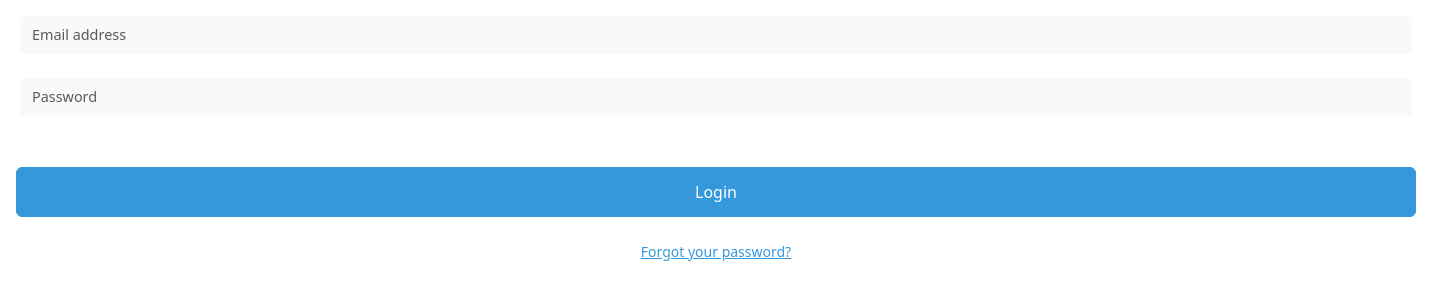
it: UserLogin Component › Form Validation › shows error for invalid email format
Type "invalid-email" into the field with placeholder "Email address" at (716, 35), box [20,16,1412,54]
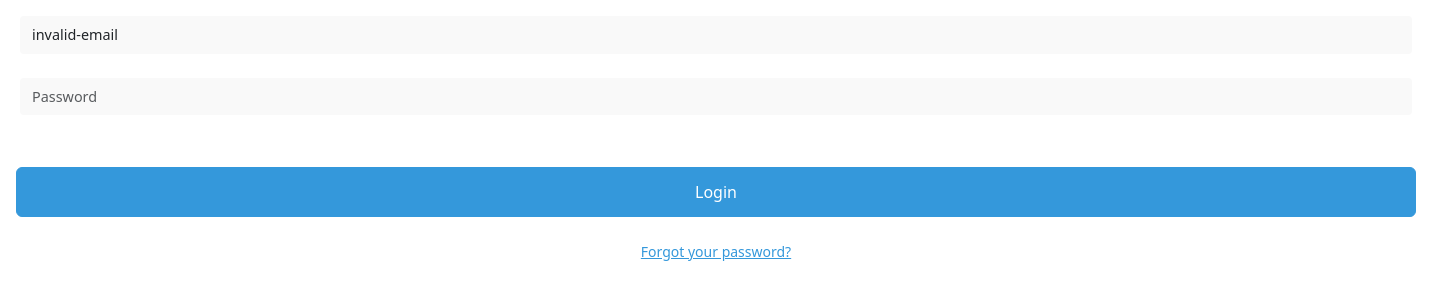
Click the button "Login" at (716, 192), box [16,167,1416,217]
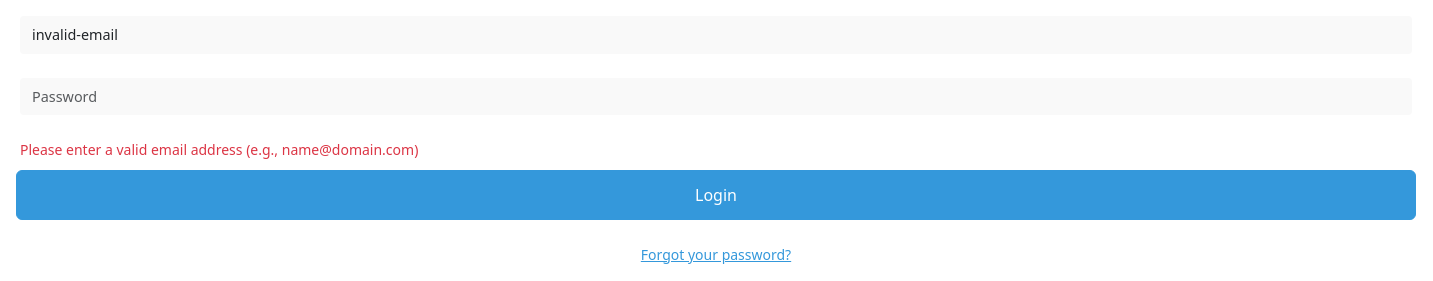
Check: the text "Please enter a valid email address (e.g., name@domain.com)" is shown, box [20,140,418,159]
